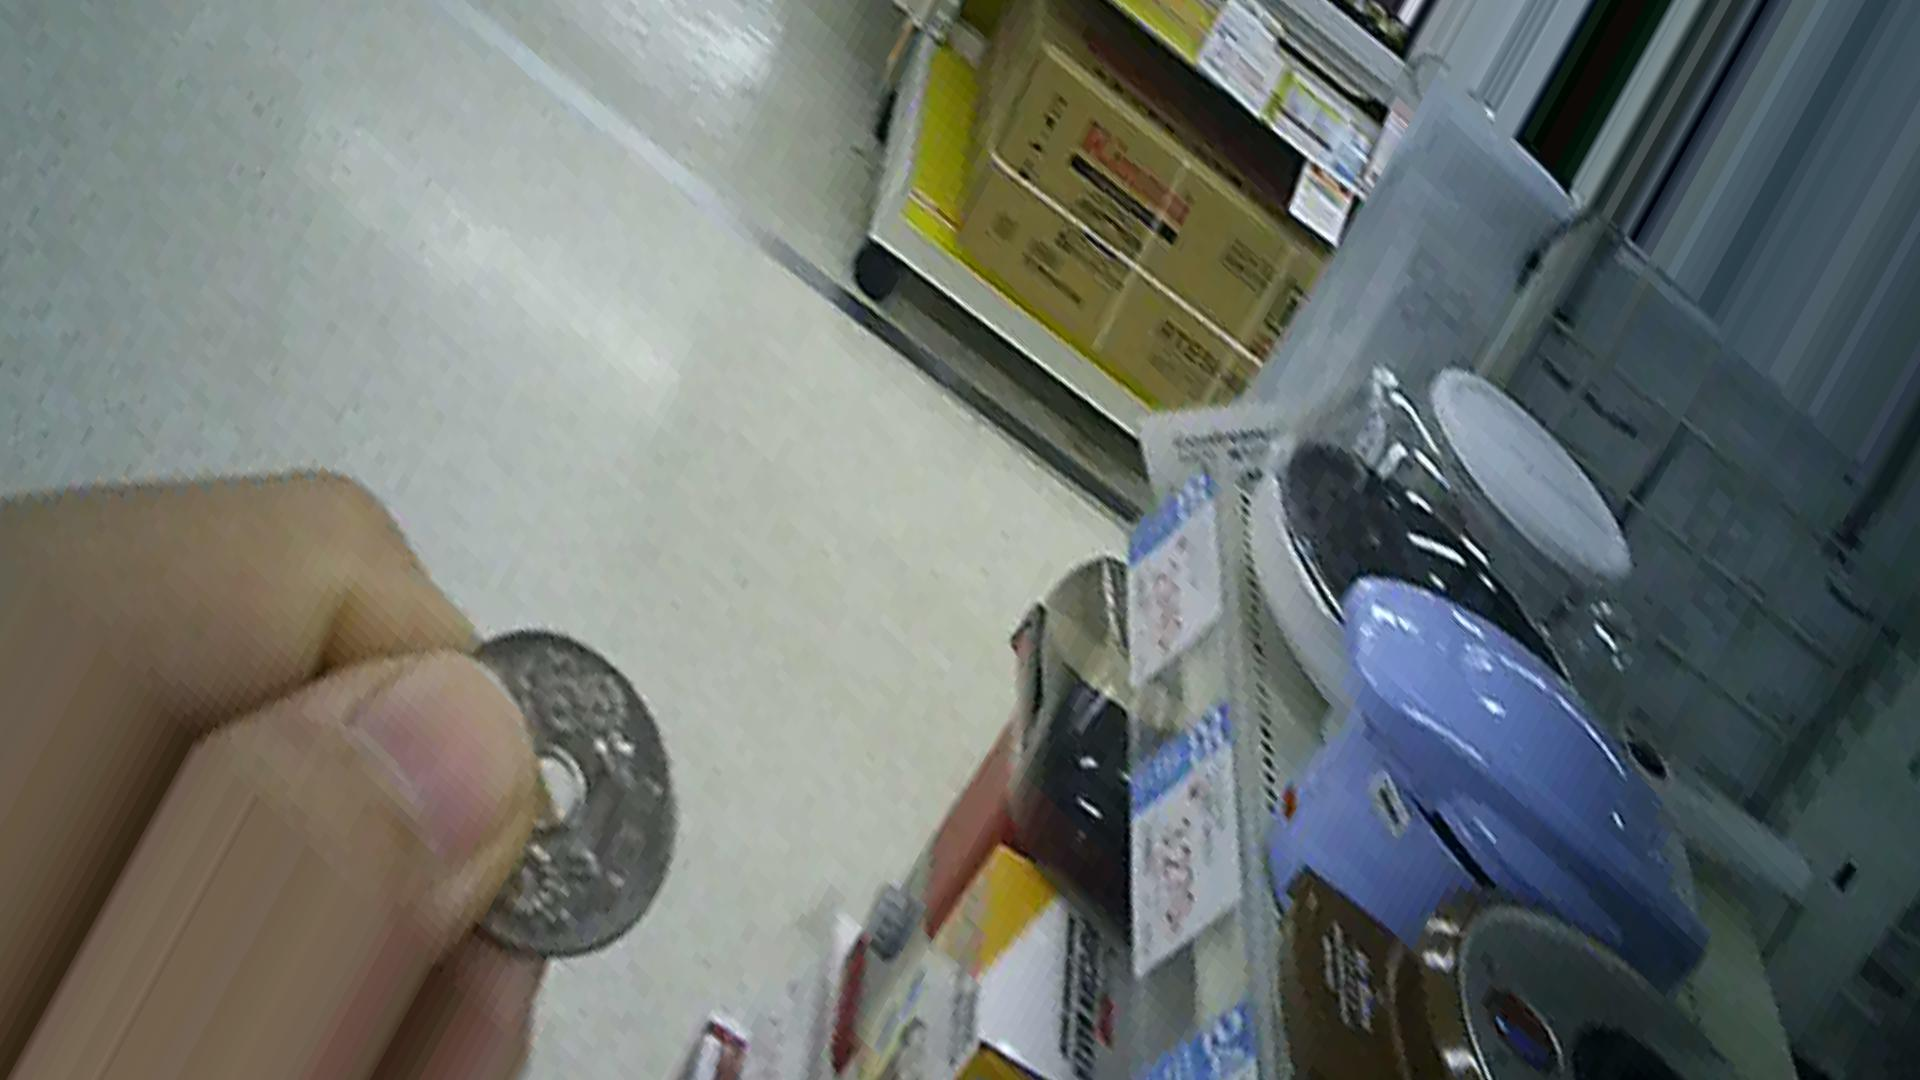50 Yen: (417, 613, 674, 961)
